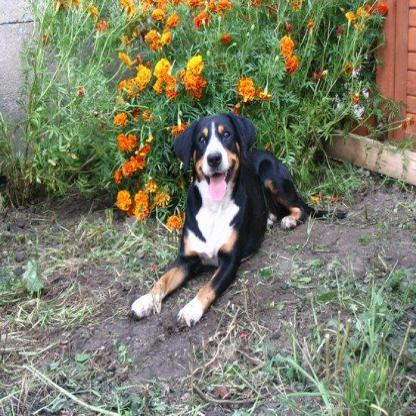EntleBucher: (128, 111, 346, 326)
